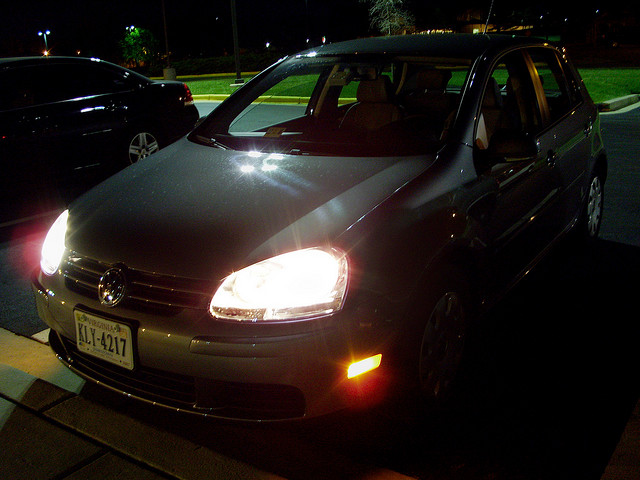car: (34, 23, 614, 437)
